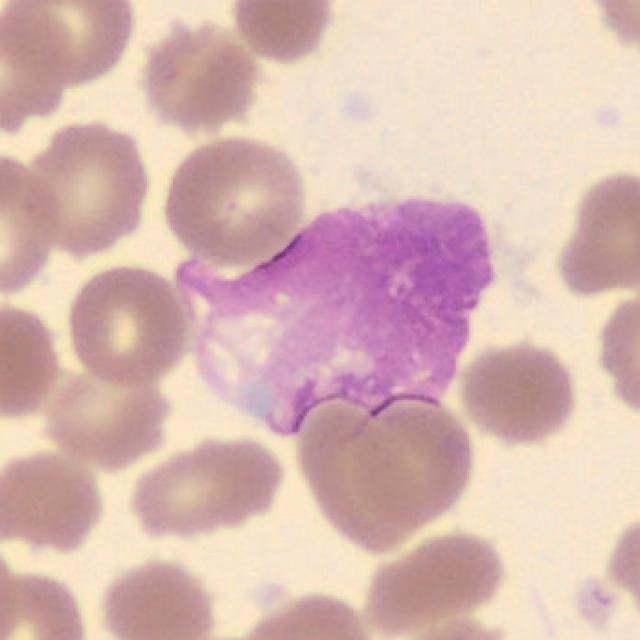Restos celulares: (175, 197, 495, 437)
